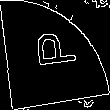P_W: (30, 33, 80, 77)
